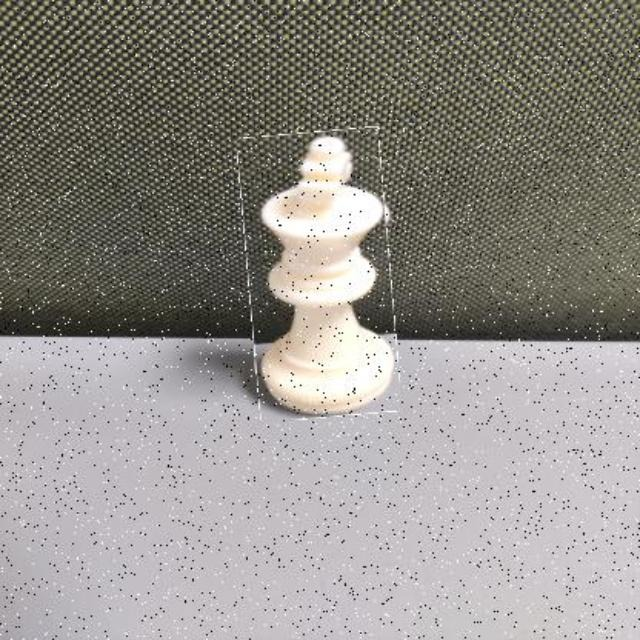white-king: (244, 130, 396, 419)
